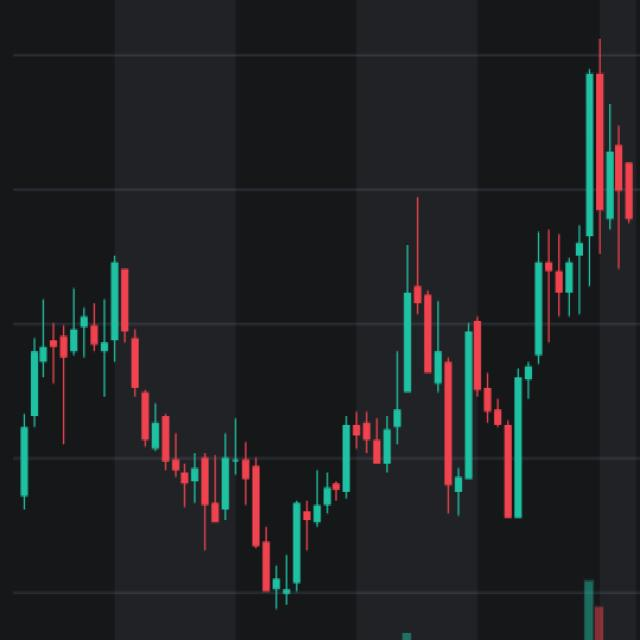Inverse-Head-Shoulders: (118, 249, 422, 610)
